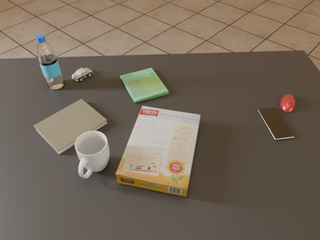book: (34, 99, 108, 155), (120, 68, 168, 103)
bottle: (36, 34, 64, 89)
box: (116, 106, 200, 197)
cup: (75, 131, 110, 178)
mouse: (280, 94, 295, 113)
phone: (258, 108, 294, 140)
toy_car: (72, 68, 93, 82)
